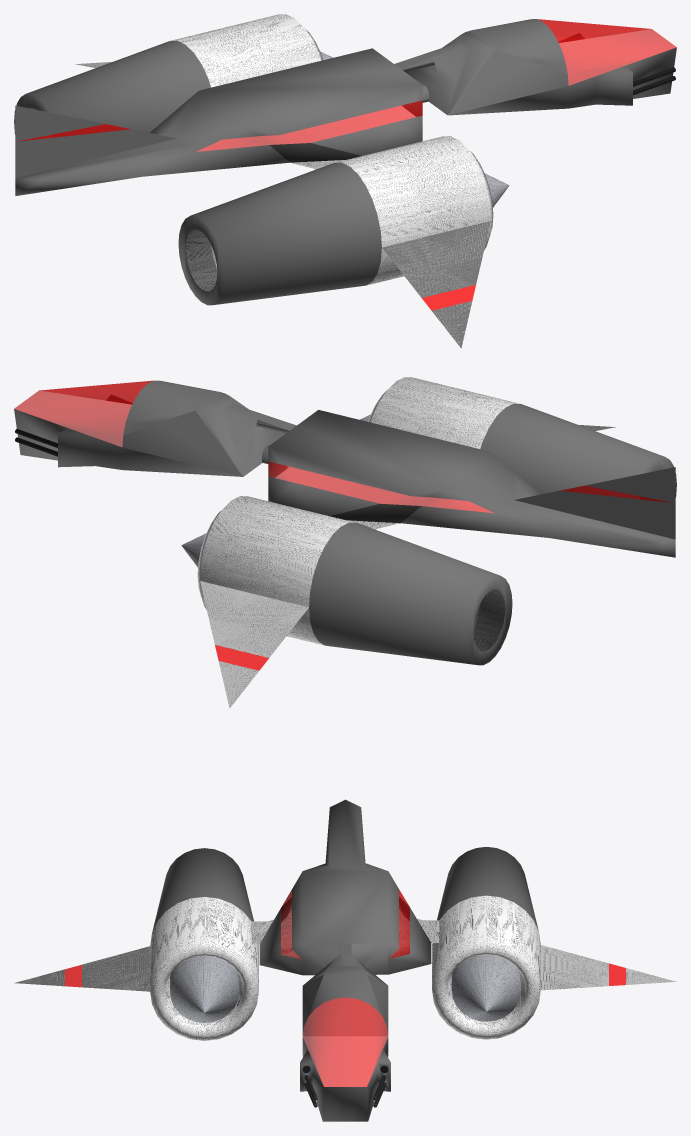
The picture shows the model from 3 angles, top to bottom: view 1: azimuth 30°, elevation 25°; view 2: azimuth 150°, elevation 25°; view 3: azimuth 270°, elevation 25°; orthographic projection. The views are drawn at different scales.
Parts seen in each view (by area): view 1: SketchUp (×16); view 2: SketchUp (×16); view 3: SketchUp (×15).
Part boxes in pixels (box(x1,y1,x2,y2)): SketchUp (×16): box(14, 14, 676, 348); SketchUp (×16): box(14, 377, 676, 708); SketchUp (×15): box(82, 799, 608, 1121).
Bounding box in the file's own units: 566 × 584 × 148.
